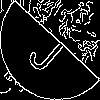J: (25, 25, 73, 76)
